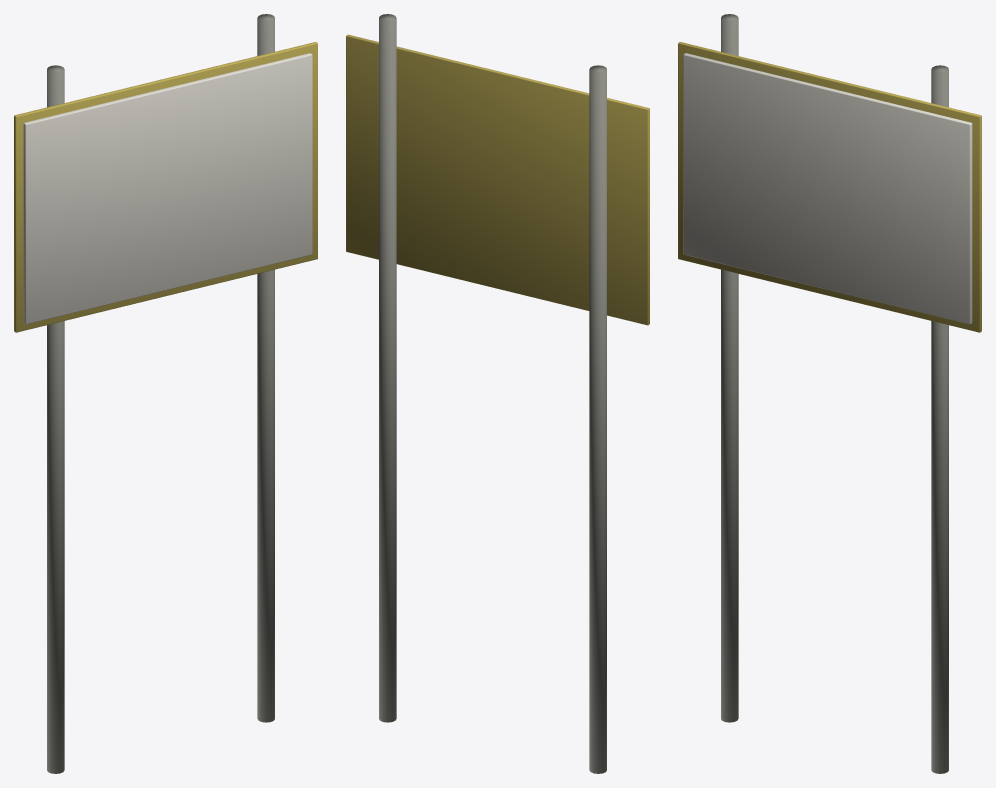
The model's file is pipeline_sign.glb.
3 renders of one model, left to right at view 1: azimuth 30°, elevation 25°; view 2: azimuth 150°, elevation 25°; view 3: azimuth 330°, elevation 25°, orthographic.
Visible parts, largest first — view 1: g_pipeline_sign, g_metal, g_pipeline_rim; view 2: g_pipeline_rim, g_metal; view 3: g_pipeline_sign, g_metal, g_pipeline_rim.
Part boxes in pixels (<box>): g_pipeline_sign: <box>23,53,312,324</box>; g_metal: <box>47,14,274,773</box>; g_pipeline_rim: <box>14,42,317,332</box>; g_pipeline_rim: <box>346,34,649,325</box>; g_metal: <box>379,14,606,773</box>; g_pipeline_sign: <box>683,53,972,324</box>; g_metal: <box>721,14,948,773</box>; g_pipeline_rim: <box>678,42,981,332</box>.
Size of the model in its own units: 1.58 by 3.5 by 0.115.
